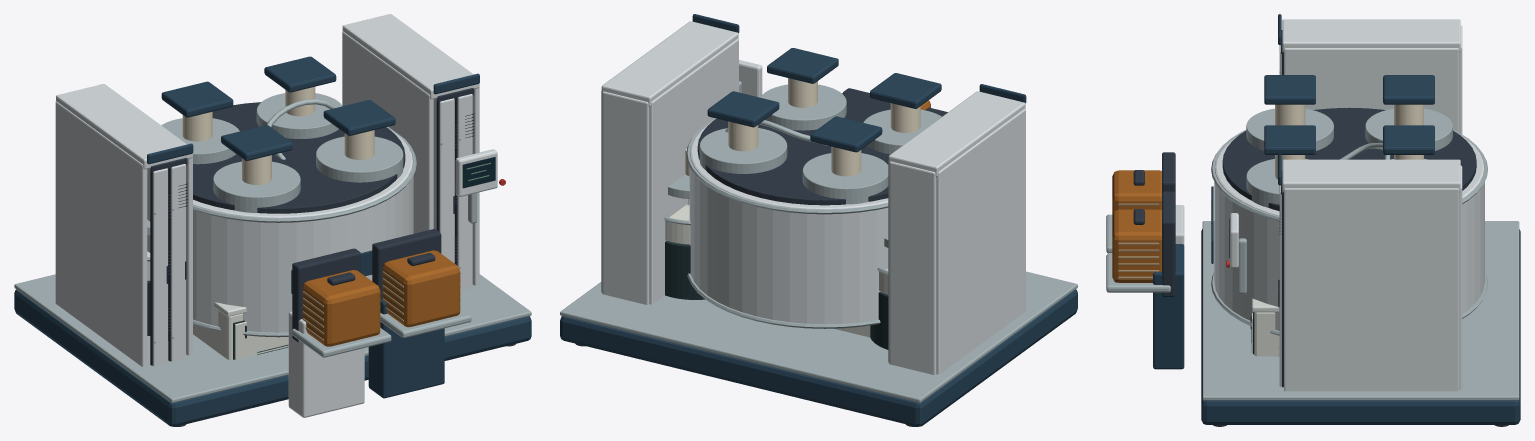
Rendered from equipment-pecvd.glb.
3 renders of one model, left to right at view 1: azimuth 30°, elevation 25°; view 2: azimuth 150°, elevation 25°; view 3: azimuth 270°, elevation 25°, orthographic.
Visible parts, largest first — view 1: Side service skin, Four station deposition drum, Raised deck edge, Segmented service plinth, Side service skin.002, Four station deposition drum top cap, Independent load port base, Filtered ceiling.001, Filtered ceiling, Amber wafer transport pod.001, Amber wafer transport pod, Independent load port base.001 (+33 smaller); view 2: Four station deposition drum, Side service skin, Raised deck edge, Segmented service plinth, Rear utility enclosure, Rear utility enclosure.001, Side service skin.002, Four station deposition drum top cap, Filtered ceiling.001, Filtered ceiling, Individual showerhead lid, Individual showerhead lid.001 (+16 smaller); view 3: Side service skin.003, Raised deck edge, Four station deposition drum, Segmented service plinth, Side service skin.001, Filtered ceiling.001, Filtered ceiling, Four station deposition drum top cap, Amber wafer transport pod.001, Independent load port base.001, Amber wafer transport pod, RF lid bridge.001 (+21 smaller).
Boxes of the visible parts, bbox=[...] form: Side service skin: bbox=[55, 101, 147, 366]; Four station deposition drum: bbox=[193, 129, 413, 332]; Raised deck edge: bbox=[14, 274, 531, 402]; Segmented service plinth: bbox=[14, 289, 531, 426]; Side service skin.002: bbox=[342, 31, 433, 233]; Four station deposition drum top cap: bbox=[193, 102, 405, 213]; Independent load port base: bbox=[288, 311, 364, 417]; Filtered ceiling.001: bbox=[342, 14, 479, 99]; Filtered ceiling: bbox=[56, 84, 192, 169]; Amber wafer transport pod.001: bbox=[382, 250, 460, 327]; Amber wafer transport pod: bbox=[302, 270, 380, 346]; Independent load port base.001: bbox=[368, 299, 444, 398]; Four station deposition drum: bbox=[689, 120, 888, 324]; Side service skin: bbox=[936, 109, 1025, 374]; Raised deck edge: bbox=[560, 271, 1077, 402]; Segmented service plinth: bbox=[560, 289, 1077, 426]; Rear utility enclosure: bbox=[889, 161, 936, 374]; Rear utility enclosure.001: bbox=[602, 91, 649, 304]; Side service skin.002: bbox=[649, 39, 738, 304]; Four station deposition drum top cap: bbox=[697, 93, 890, 205]; Filtered ceiling.001: bbox=[601, 21, 738, 106]; Filtered ceiling: bbox=[888, 91, 1025, 176]; Individual showerhead lid: bbox=[802, 153, 888, 204]; Individual showerhead lid.001: bbox=[699, 128, 787, 173]; Side service skin.003: bbox=[1284, 188, 1459, 391]; Raised deck edge: bbox=[1202, 221, 1519, 400]; Four station deposition drum: bbox=[1214, 135, 1484, 330]; Segmented service plinth: bbox=[1201, 229, 1520, 424]; Side service skin.001: bbox=[1284, 48, 1459, 132]; Filtered ceiling.001: bbox=[1282, 159, 1460, 192]; Filtered ceiling: bbox=[1282, 19, 1460, 52]; Four station deposition drum top cap: bbox=[1222, 107, 1476, 211]; Amber wafer transport pod.001: bbox=[1112, 209, 1161, 282]; Independent load port base.001: bbox=[1153, 244, 1184, 369]; Amber wafer transport pod: bbox=[1112, 170, 1161, 214]; RF lid bridge.001: bbox=[1383, 125, 1434, 154].
Size of the model in its own units: 6.7 by 4.4 by 6.62.
